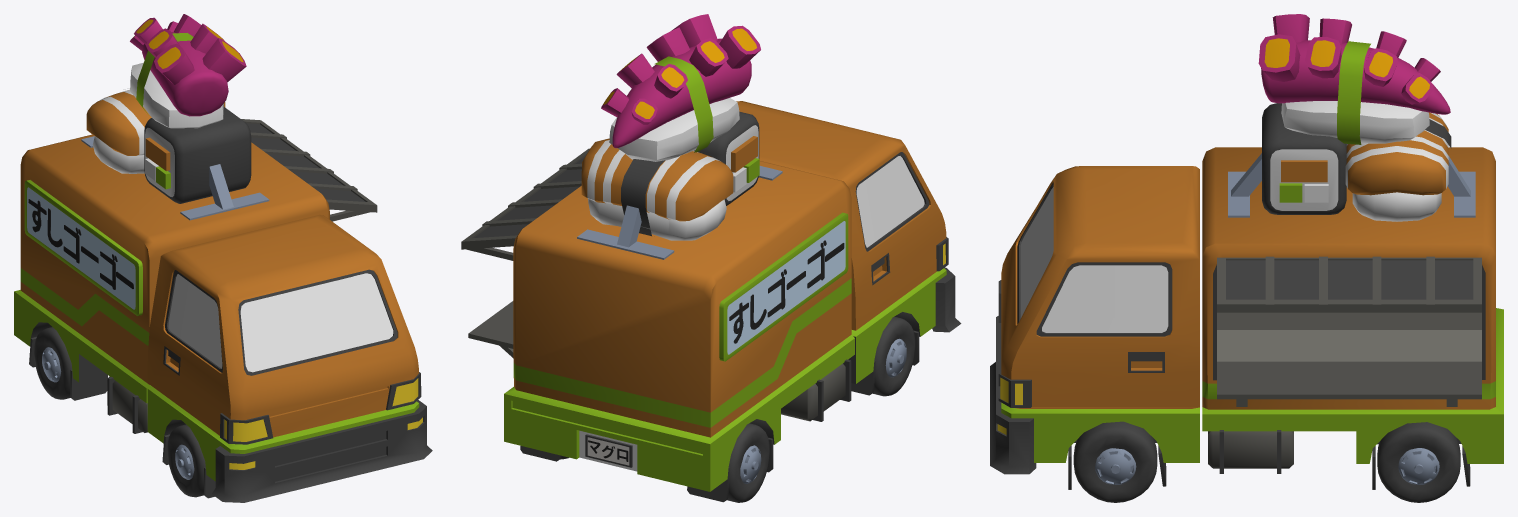
The model's file is poly-city-food-van.glb.
3 renders of one model, left to right at view 1: azimuth 30°, elevation 25°; view 2: azimuth 150°, elevation 25°; view 3: azimuth 270°, elevation 25°, orthographic. The views are drawn at different scales.
Parts seen in each view (by area): view 1: Truck; view 2: Truck; view 3: Truck.
Part boxes in pixels (x1=…): Truck: x1=14, y1=14, x2=432, y2=502; Truck: x1=461, y1=14, x2=961, y2=502; Truck: x1=990, y1=14, x2=1503, y2=502.
Size of the model in its own units: 5.1 by 7.31 by 7.98.
3 materials, 1 textured.
